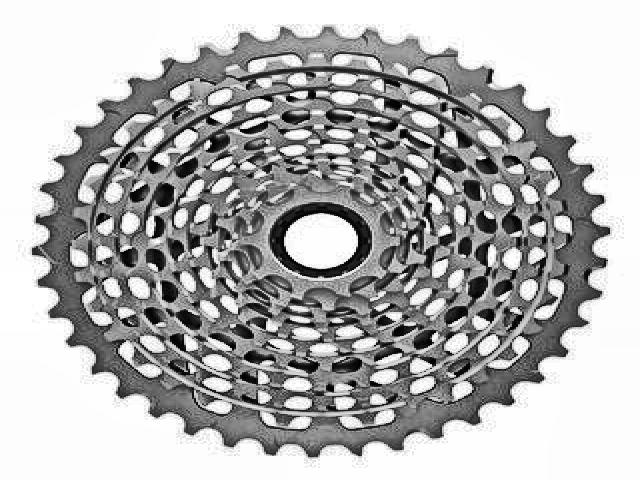cassette: (33, 23, 610, 464)
